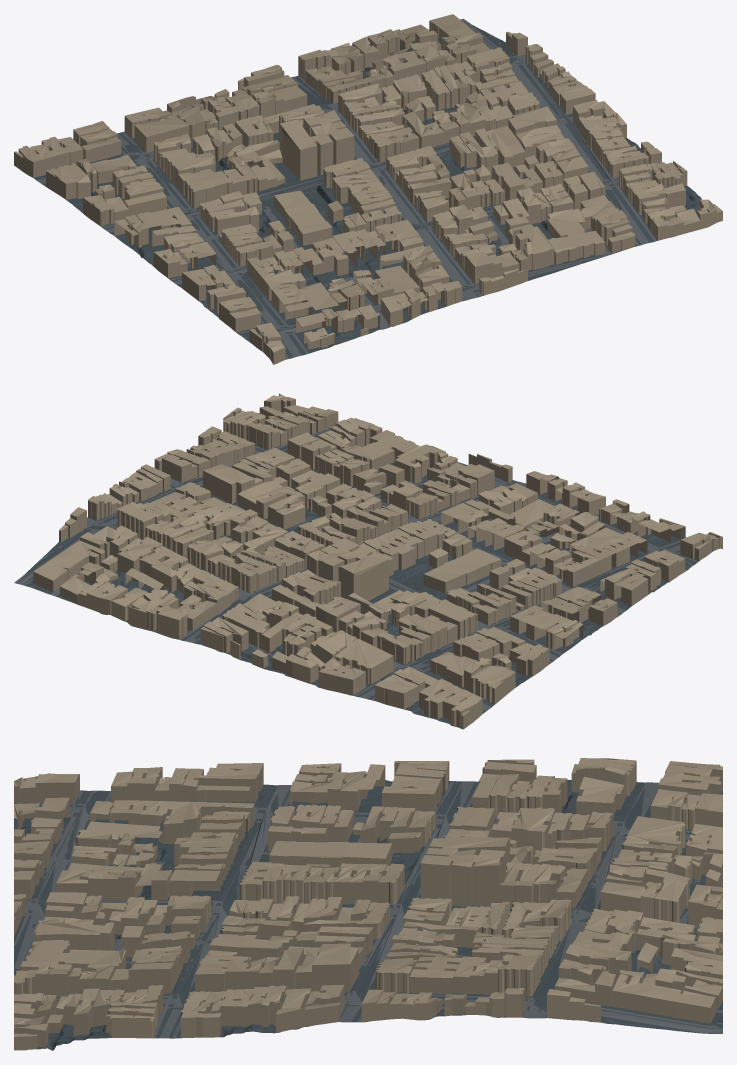
The model's file is epsg26910-1435-10893.lod0.glb.
3 views of the same model, one above another, from view 1: azimuth 30°, elevation 25°; view 2: azimuth 150°, elevation 25°; view 3: azimuth 270°, elevation 25° (orthographic). The views are drawn at different scales.
Visible parts, largest first — view 1: epsg26910-1435-10893-lod0; view 2: epsg26910-1435-10893-lod0; view 3: epsg26910-1435-10893-lod0.
Part boxes in pixels (x1=…): epsg26910-1435-10893-lod0: x1=14, y1=14, x2=722, y2=364; epsg26910-1435-10893-lod0: x1=14, y1=393, x2=722, y2=729; epsg26910-1435-10893-lod0: x1=14, y1=758, x2=722, y2=1050.
Size of the model in its own units: 384 by 63.11 by 384.
